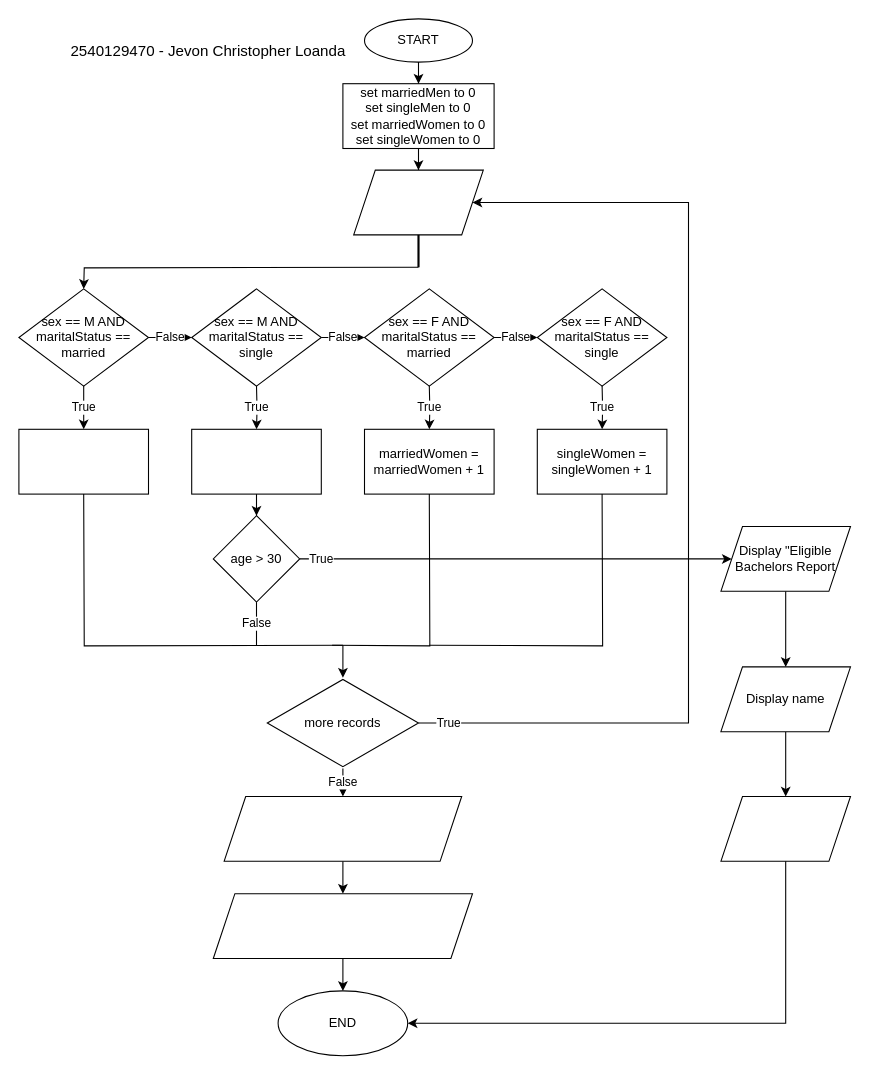
The diagram is 869 pixels wide and 1075 high, and some of its shapes have lost their labels. The box of each missing label's shape, as (x1, y1, x2, y2) in pixels:
Display "Student Summary Report": (223, 795, 462, 861)
Display age: (720, 795, 850, 861)
Display sum of marriedMen, singleMen, marriedWomen, singleWomen: (212, 893, 473, 959)
marriedMen = marriedMen + 1: (18, 428, 148, 494)
Read student_records: (353, 169, 483, 235)
singleMen = singleMen + 1: (191, 428, 321, 494)
